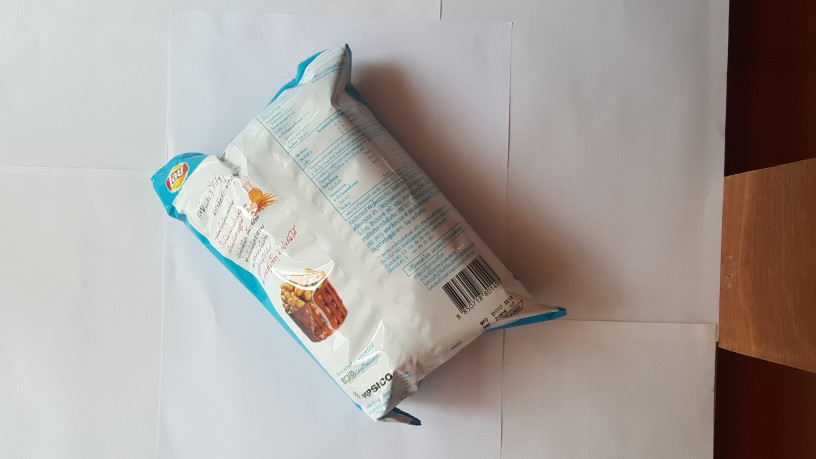lays-onion: (160, 39, 572, 435)
